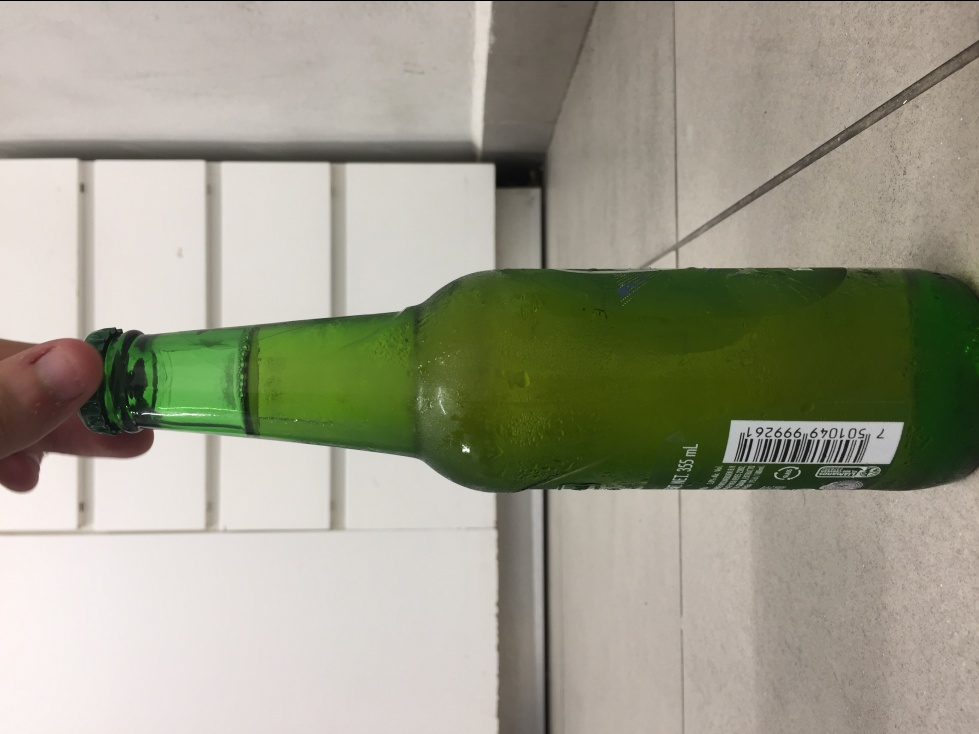heineken: (74, 262, 979, 494)
